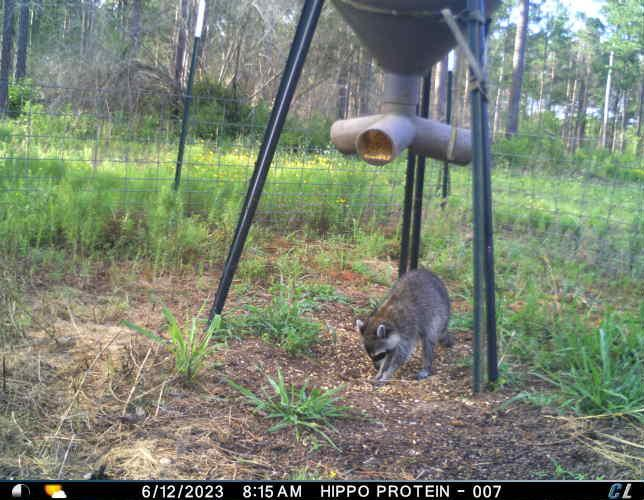Raccoon: (352, 265, 458, 385)
